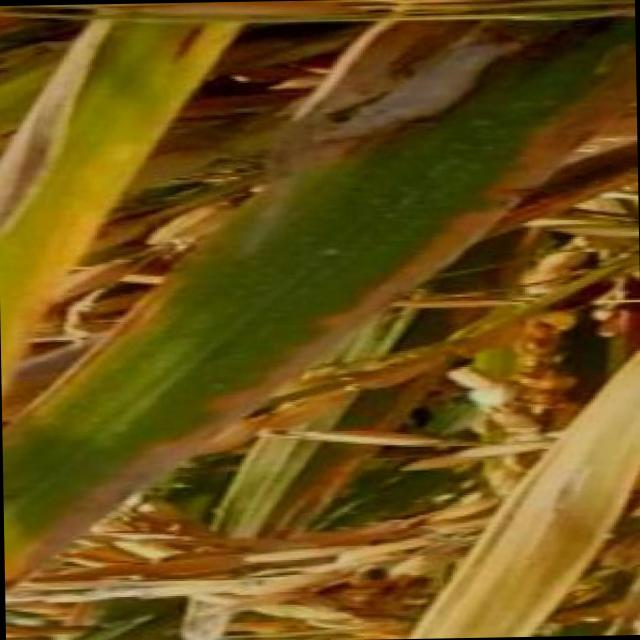Rice_Bacterial_Blight: (0, 332, 233, 506)
